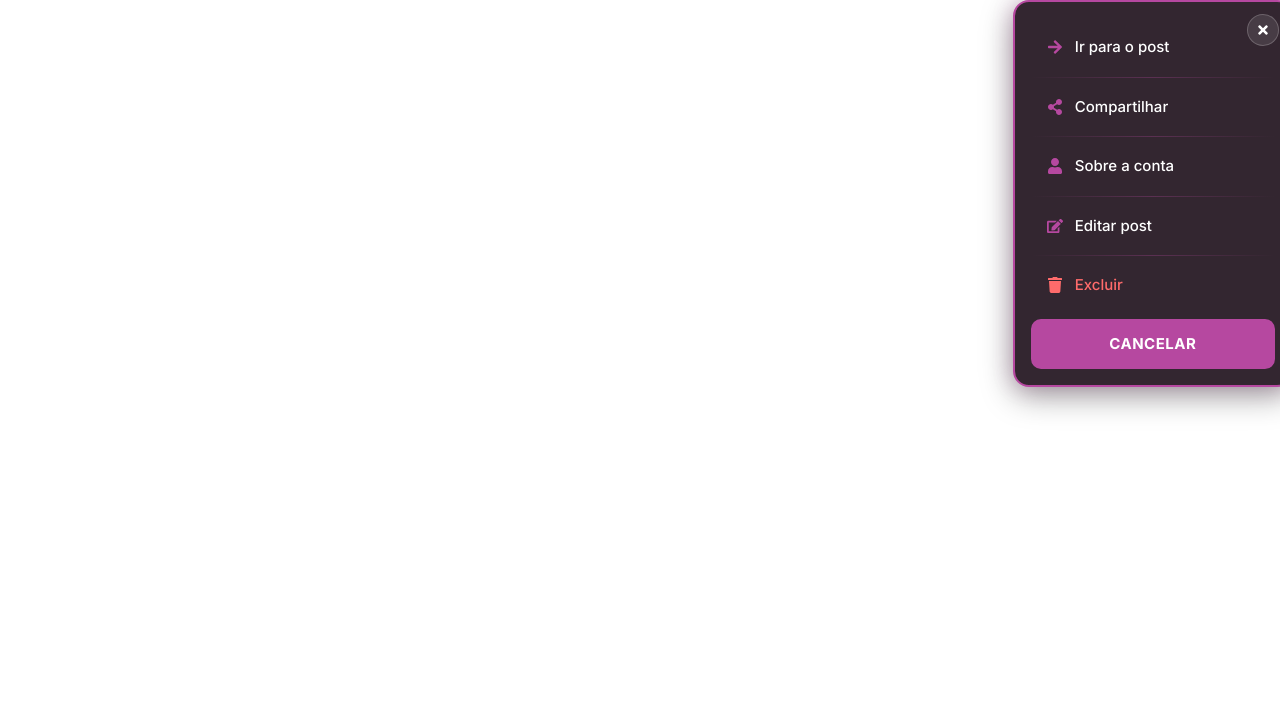
Test: PostModal › deve mostrar modal de confirmação ao clicar em Excluir
This screenshot has width=1280, height=720.
Click the button "Excluir".
click(1153, 285)  # box [1031, 260, 1275, 310]
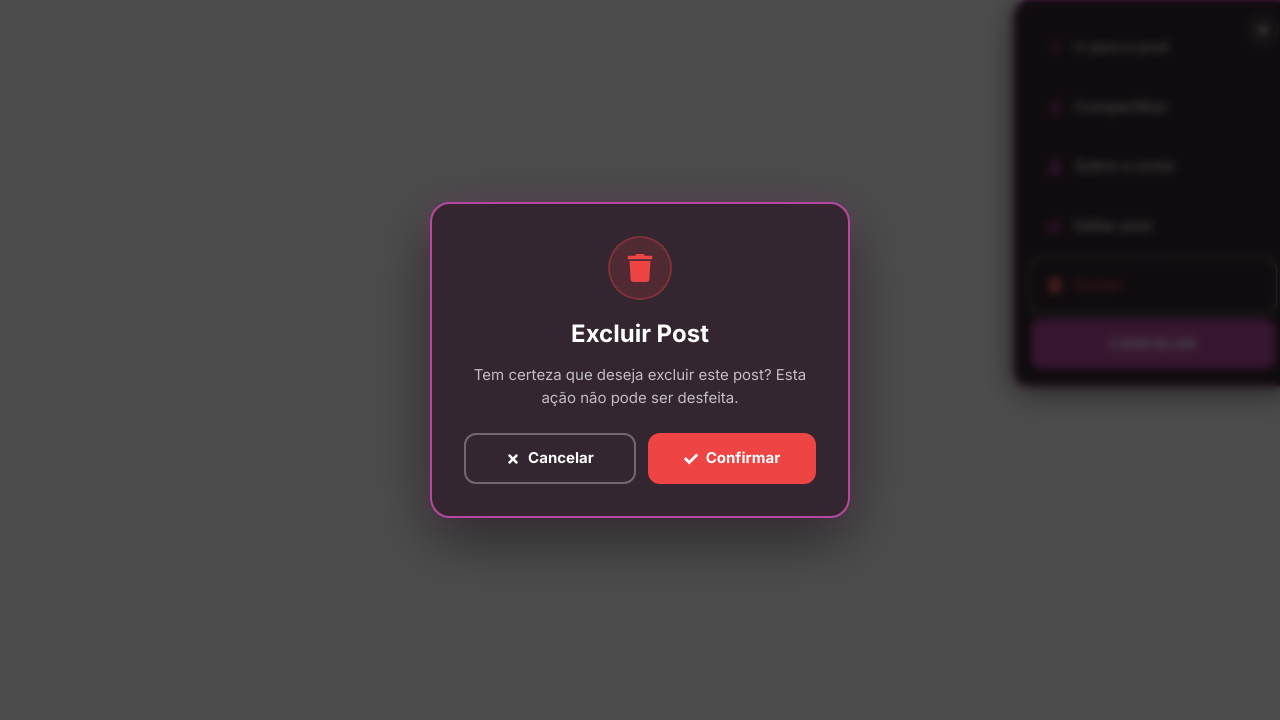
Now the heading "Excluir Post" is shown, box [571, 319, 709, 348]
Now the text "Tem certeza que deseja excluir este post" is shown, box [474, 365, 806, 407]
